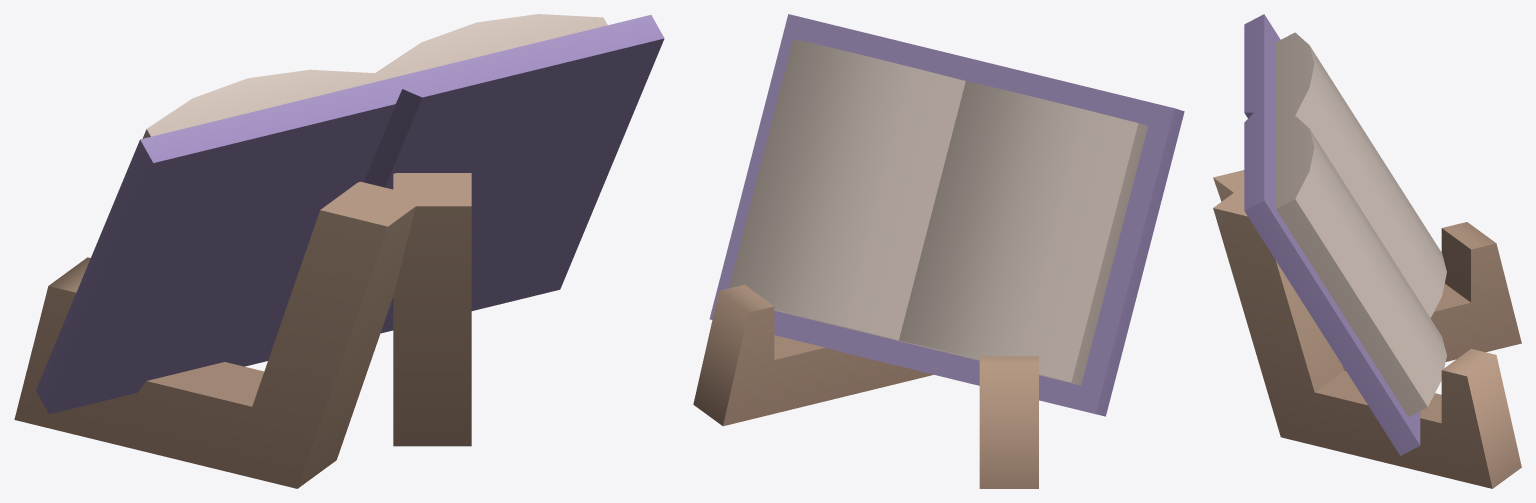
Rendered from bookstand (%secret).glb.
3 renders of one model, left to right at view 1: azimuth 30°, elevation 25°; view 2: azimuth 150°, elevation 25°; view 3: azimuth 270°, elevation 25°, orthographic. The views are drawn at different scales.
Parts seen in each view (by area): view 1: bookstand (%secret); view 2: bookstand (%secret); view 3: bookstand (%secret).
Boxes of the visible parts, x1,y1,x2,y2 form: bookstand (%secret): (14,14,664,488); bookstand (%secret): (693,14,1184,488); bookstand (%secret): (1213,14,1521,488).
Size of the model in its own units: 0.3762 by 0.2819 by 0.2632.
